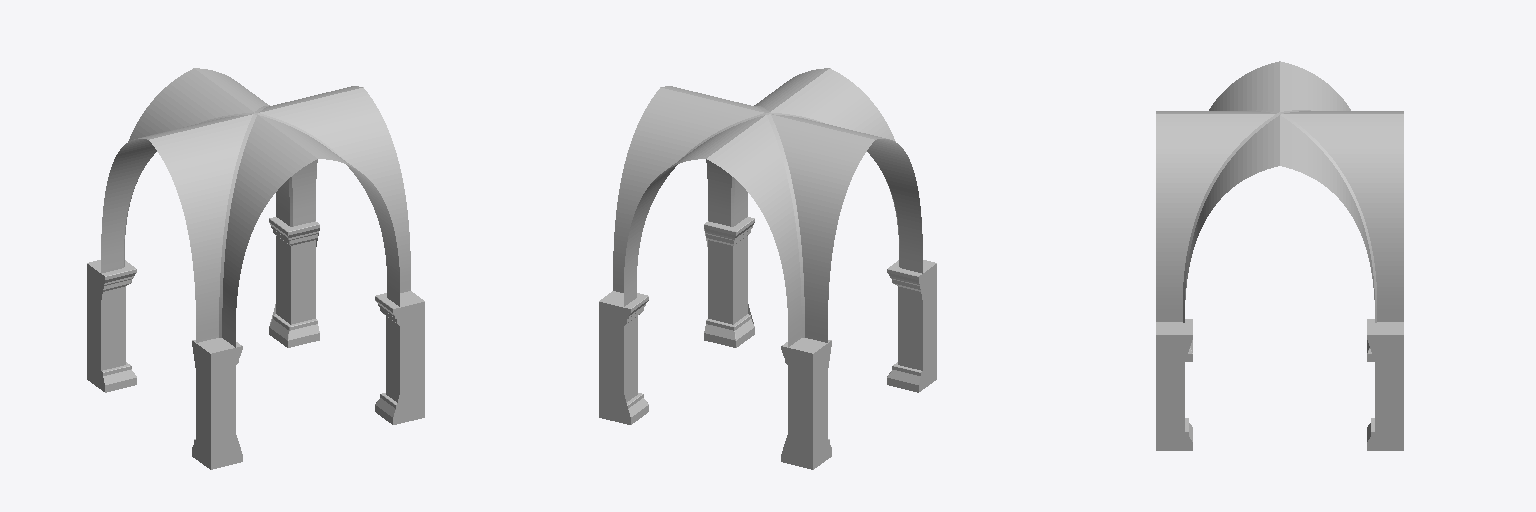
The model's file is Dome.obj.
The picture shows the model from 3 angles: view 1: azimuth 30°, elevation 25°; view 2: azimuth 150°, elevation 25°; view 3: azimuth 270°, elevation 25°; orthographic projection.
Visible parts, largest first — view 1: Dome.008_BezierCurve.004_BezierCurve.058; view 2: Dome.008_BezierCurve.004_BezierCurve.058; view 3: Dome.008_BezierCurve.004_BezierCurve.058.
Boxes of the visible parts, x1,y1,x2,y2 form: Dome.008_BezierCurve.004_BezierCurve.058: [87, 68, 424, 469]; Dome.008_BezierCurve.004_BezierCurve.058: [599, 68, 936, 469]; Dome.008_BezierCurve.004_BezierCurve.058: [1156, 61, 1403, 450].
Bounding box in the file's own units: 6 × 7.6 × 6.